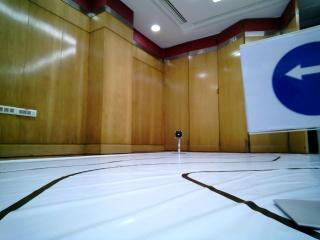left: (239, 44, 320, 127)
